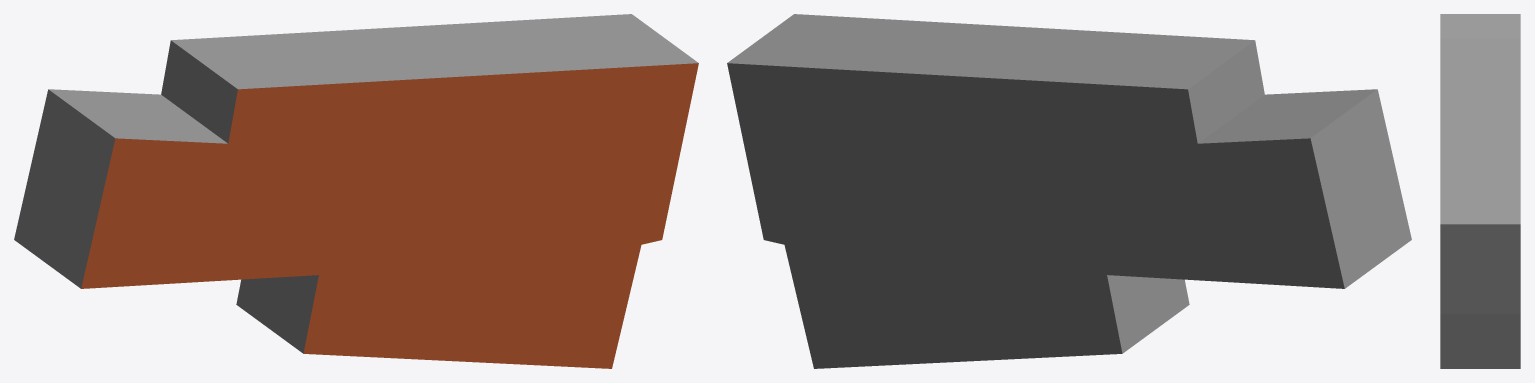
Rendered from construction_2592_assumed_A_Casa_h6m.obj.
3 renders of one model, left to right at view 1: azimuth 30°, elevation 25°; view 2: azimuth 150°, elevation 25°; view 3: azimuth 270°, elevation 25°, orthographic. The views are drawn at different scales.
Visible parts, largest first — view 1: construction_2592_assumed_A_Casa; view 2: construction_2592_assumed_A_Casa; view 3: construction_2592_assumed_A_Casa.
Boxes of the visible parts, x1,y1,x2,y2 form: construction_2592_assumed_A_Casa: (14, 14, 698, 368); construction_2592_assumed_A_Casa: (727, 14, 1411, 368); construction_2592_assumed_A_Casa: (1440, 14, 1520, 368).
Size of the model in its own units: 31.86 by 18.28 by 6.
